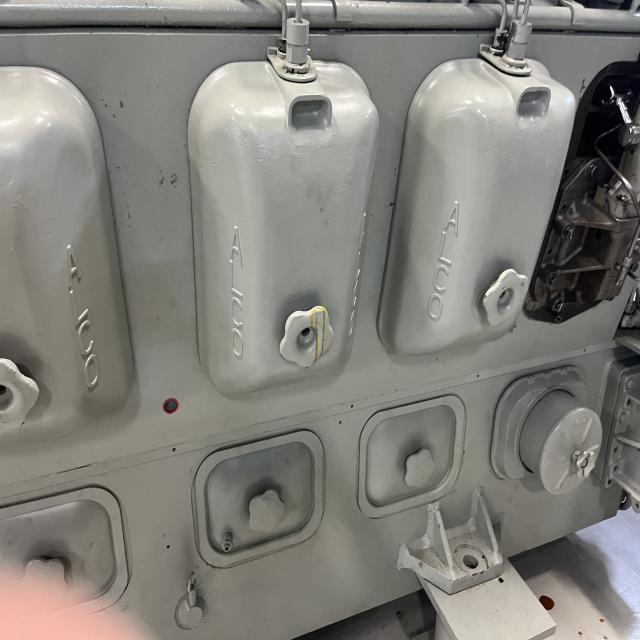Oil Leak: (308, 306, 334, 367), (539, 595, 554, 611)
